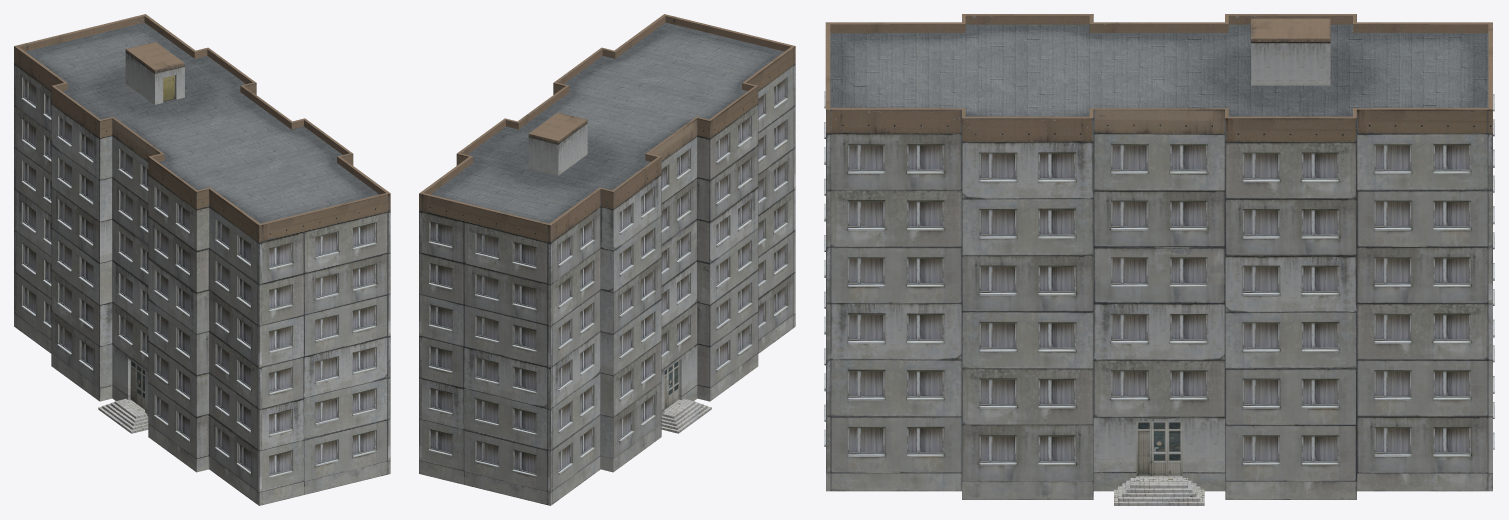
3 views of the same model, side by side, from view 1: azimuth 30°, elevation 25°; view 2: azimuth 150°, elevation 25°; view 3: azimuth 270°, elevation 25° (orthographic). The views are drawn at different scales.
Parts seen in each view (by area): view 1: BUILDING; view 2: BUILDING; view 3: BUILDING.
Part boxes in pixels (x1,y1,x2,y2): BUILDING: [14, 14, 390, 505]; BUILDING: [419, 14, 795, 505]; BUILDING: [824, 14, 1494, 505].
Size of the model in its own units: 0.6832 by 1.15 by 1.66.
1 material, 1 textured.
